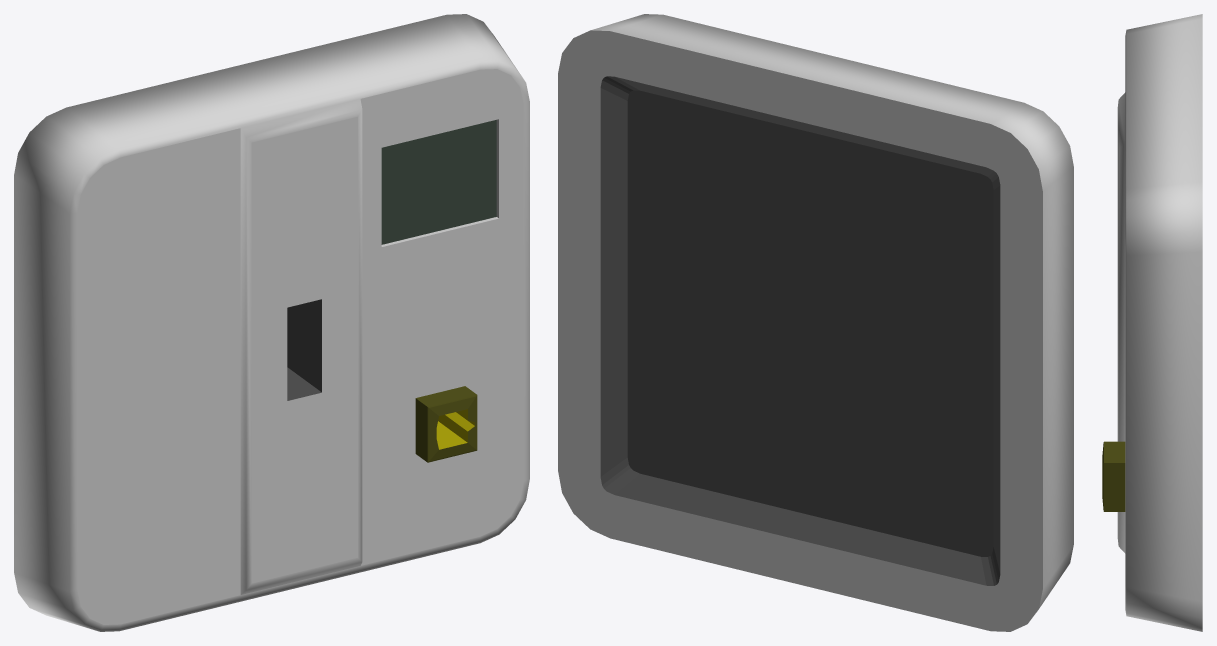
File: SM_Switch_Multi.fbx
3 views of the same model, side by side, from view 1: azimuth 30°, elevation 25°; view 2: azimuth 150°, elevation 25°; view 3: azimuth 270°, elevation 25° (orthographic). The views are drawn at different scales.
Parts seen in each view (by area): view 1: SwitchPlate; view 2: SwitchPlate; view 3: SwitchPlate.
Boxes of the visible parts, box(x1,y1,x2,y2) form: SwitchPlate: box(14, 14, 529, 631); SwitchPlate: box(558, 14, 1073, 631); SwitchPlate: box(1102, 14, 1202, 631).
Size of the model in its own units: 15.06 by 15.06 by 3.07.
